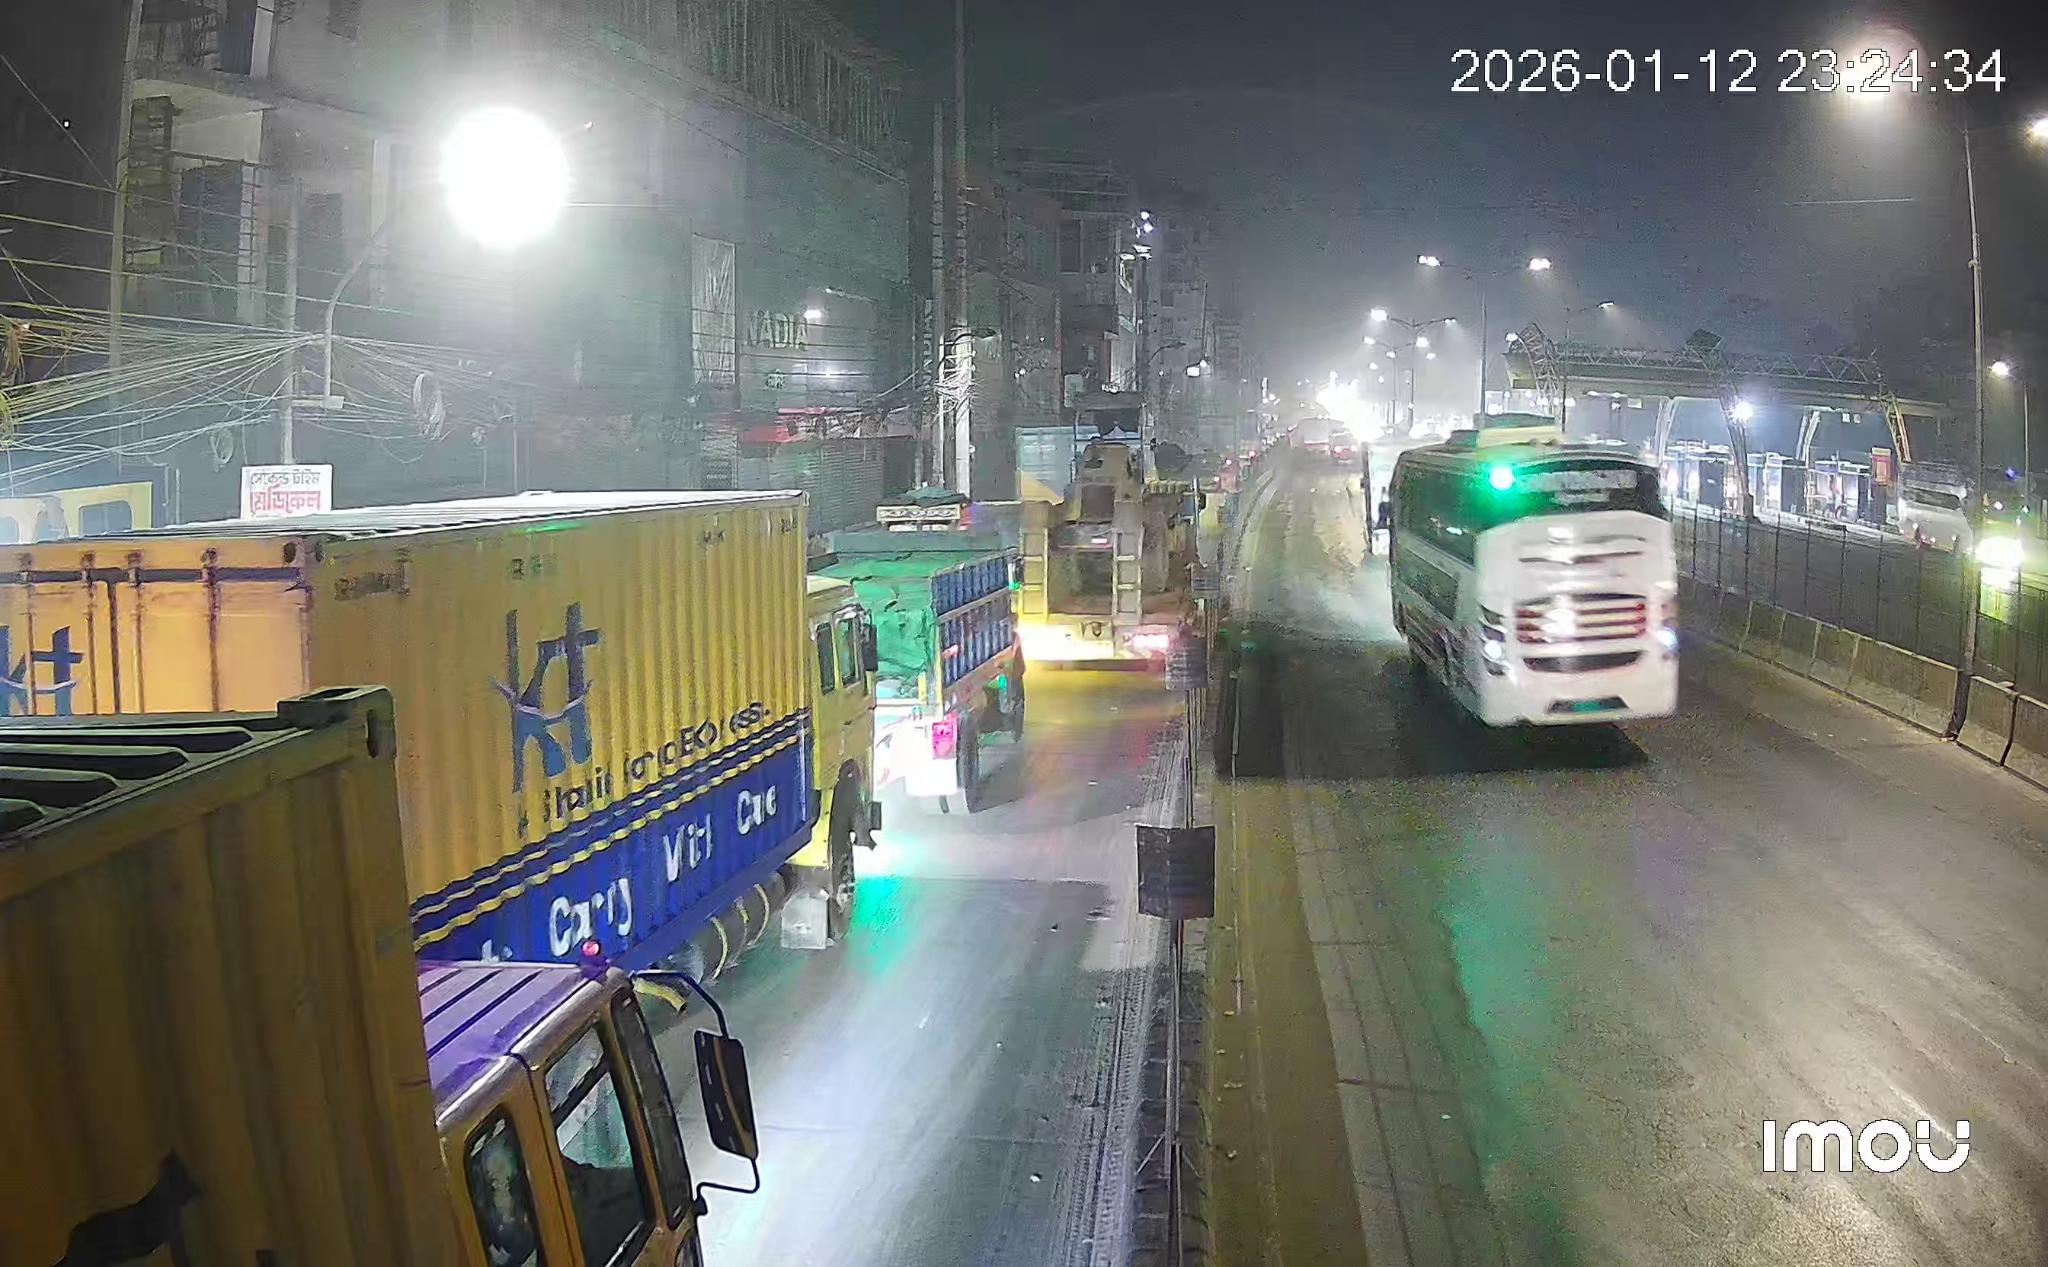Bus: (1388, 417, 1678, 726)
Truck: (0, 686, 715, 1267), (0, 492, 881, 963), (813, 497, 1024, 812)
